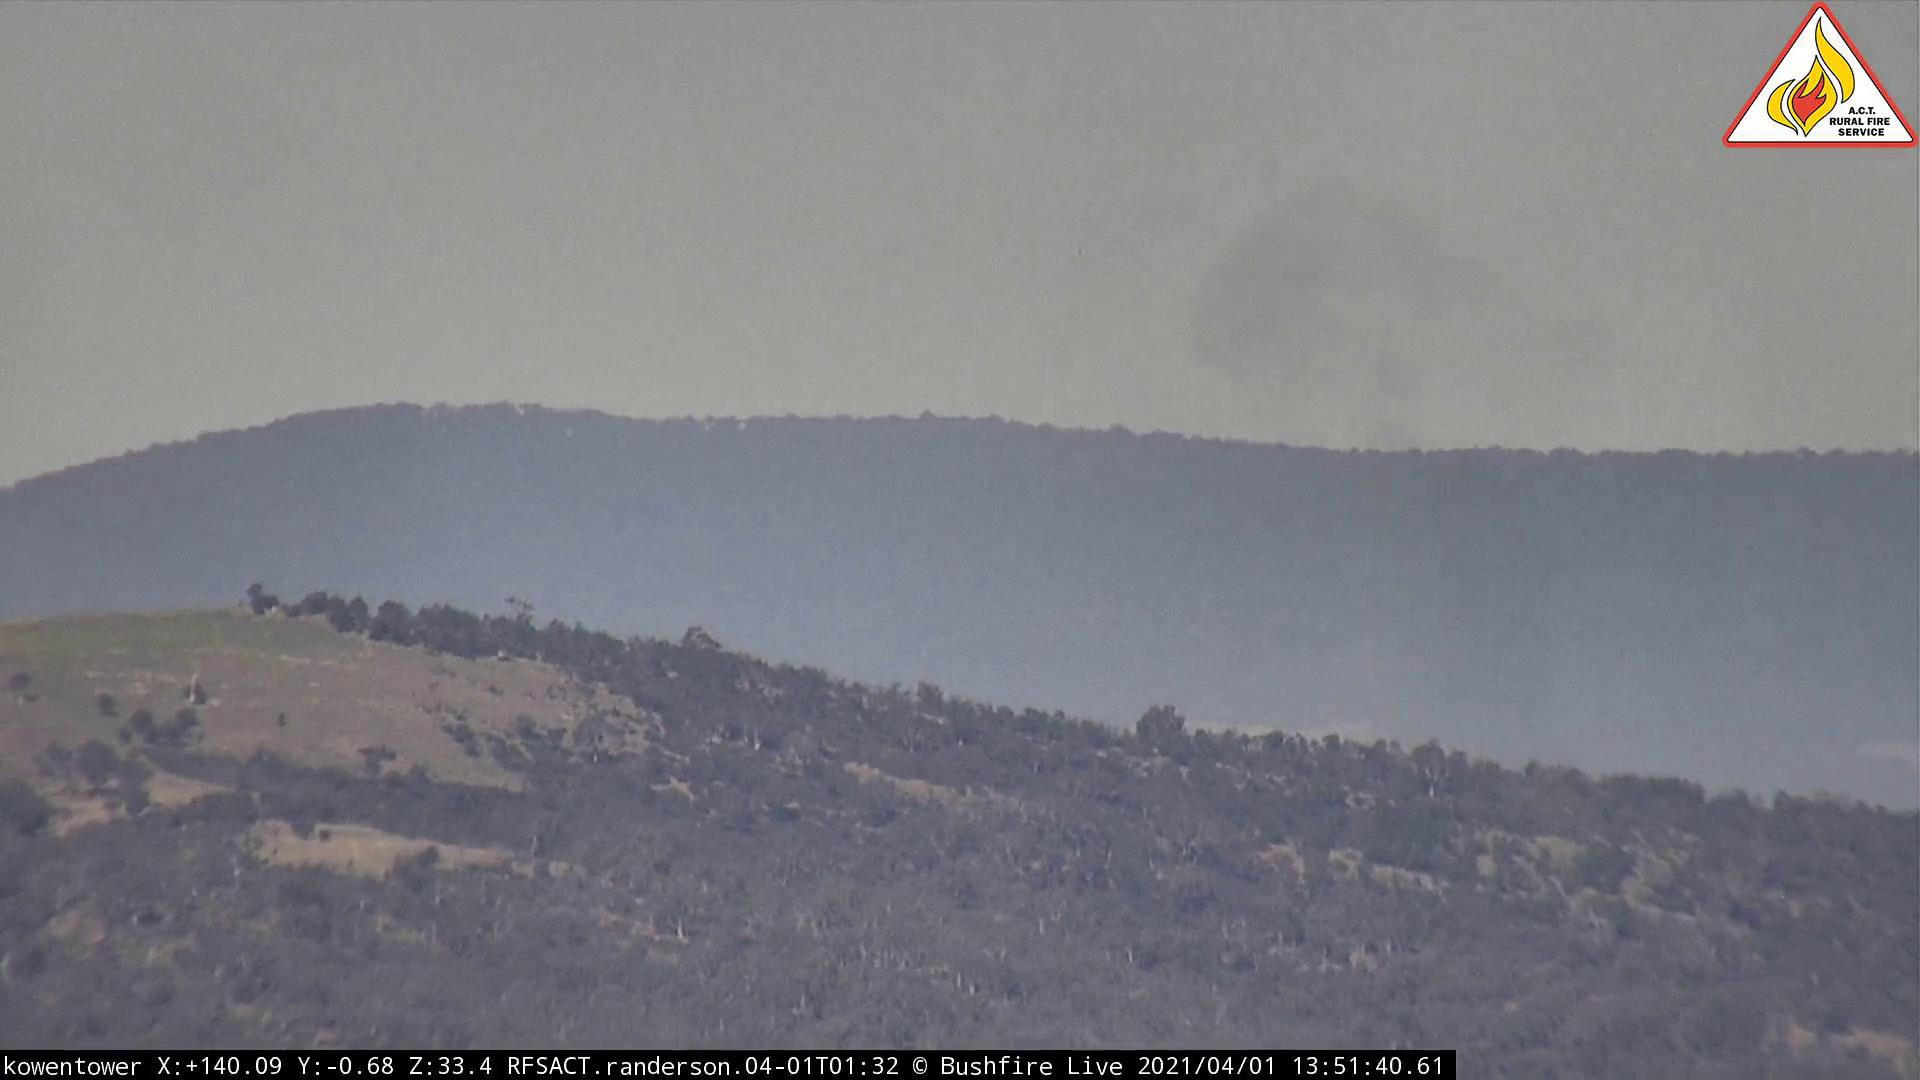Smoke: (1195, 175, 1760, 806)
